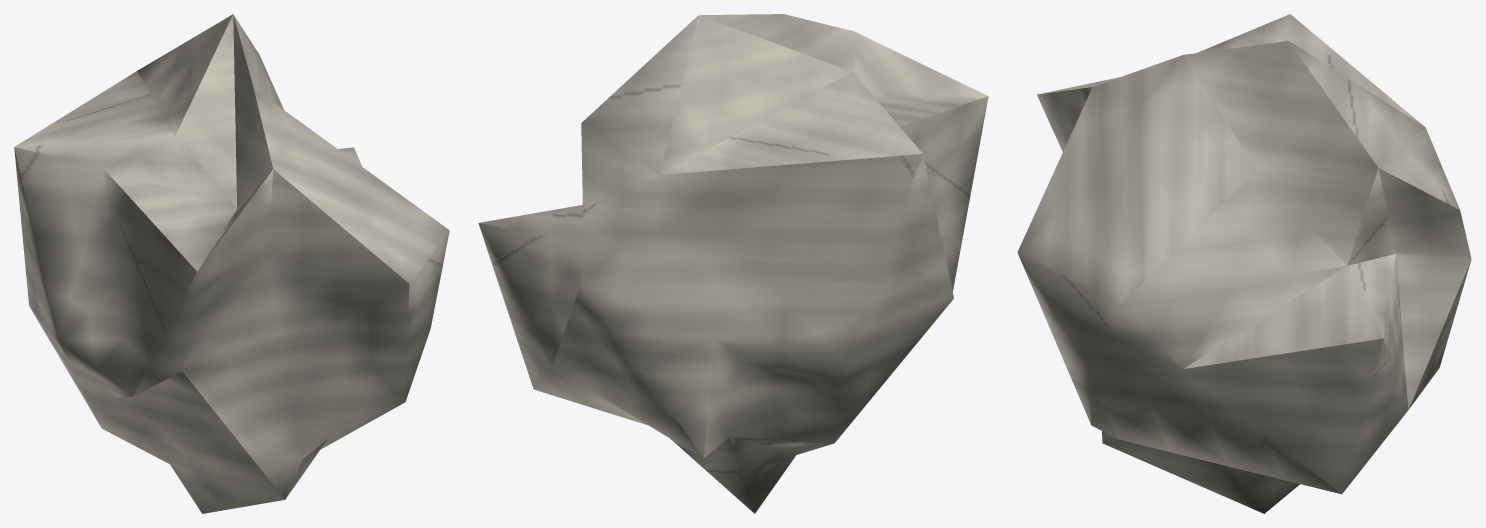
Rendered from crumpled_paper.glb.
3 renders of one model, left to right at view 1: azimuth 30°, elevation 25°; view 2: azimuth 150°, elevation 25°; view 3: azimuth 270°, elevation 25°, orthographic. The views are drawn at different scales.
Visible parts, largest first — view 1: crumpled_paper; view 2: crumpled_paper; view 3: crumpled_paper.
Part boxes in pixels (bbox=[...]): crumpled_paper: bbox=[14, 14, 449, 513]; crumpled_paper: bbox=[478, 14, 988, 513]; crumpled_paper: bbox=[1017, 14, 1471, 513].
Bounding box in the file's own units: 2.85 × 3.4 × 2.83.
1 material, 1 textured.
